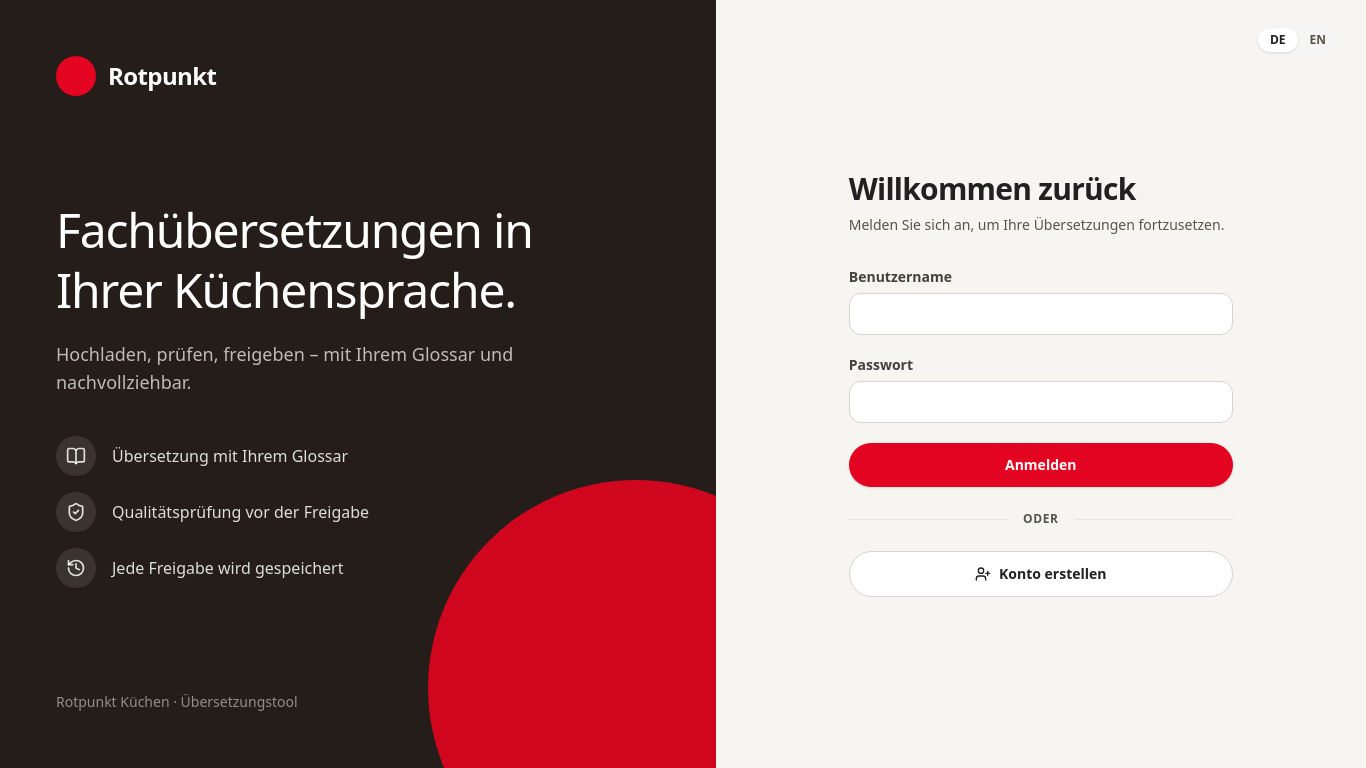
it: Login › shows the server message for wrong credentials and stores nothing
The width and height of the screenshot is (1366, 768).
In the field labelled "Benutzername": (1041,314) [849,293,1233,335], type "translator"
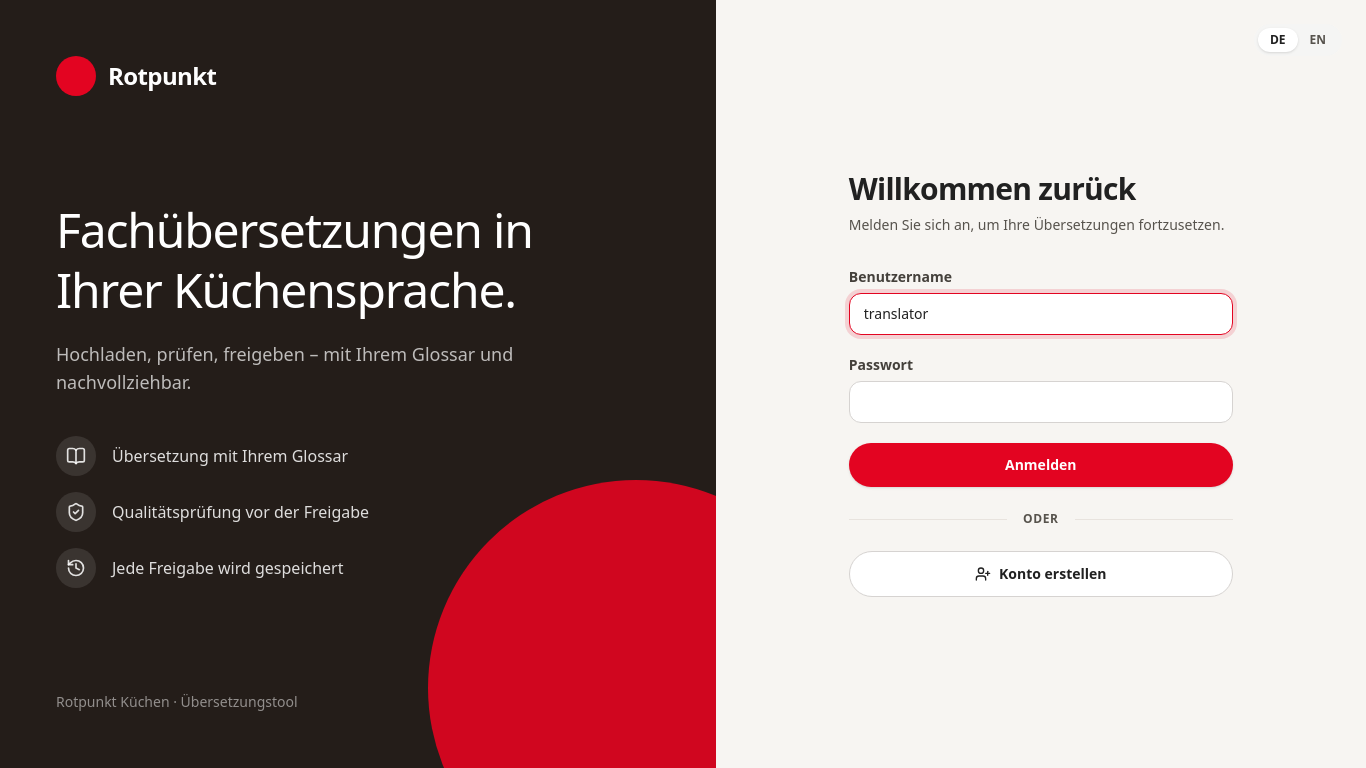
In the password field labelled "Passwort": (1041,402) [849,381,1233,423], type "wrong"
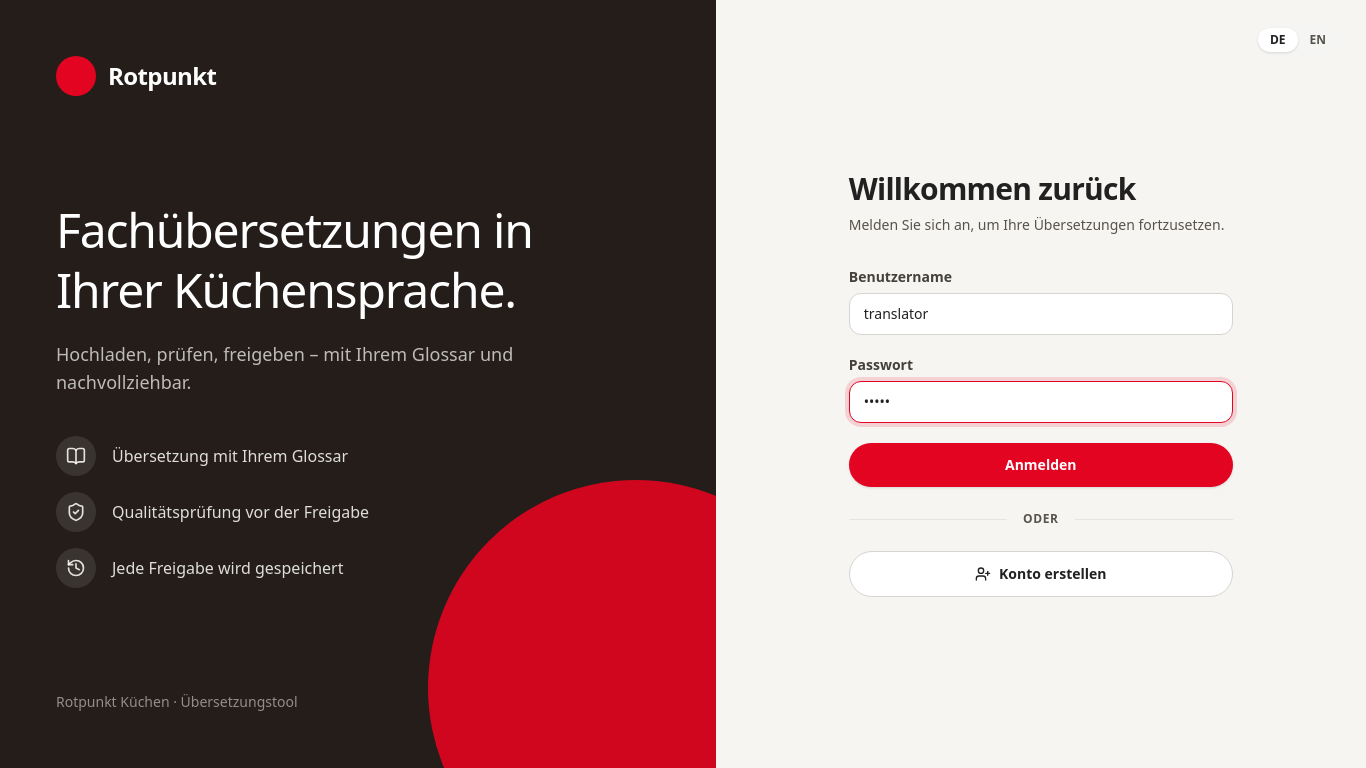
Click the button "Anmelden": (1041,465) [849,443,1233,487]
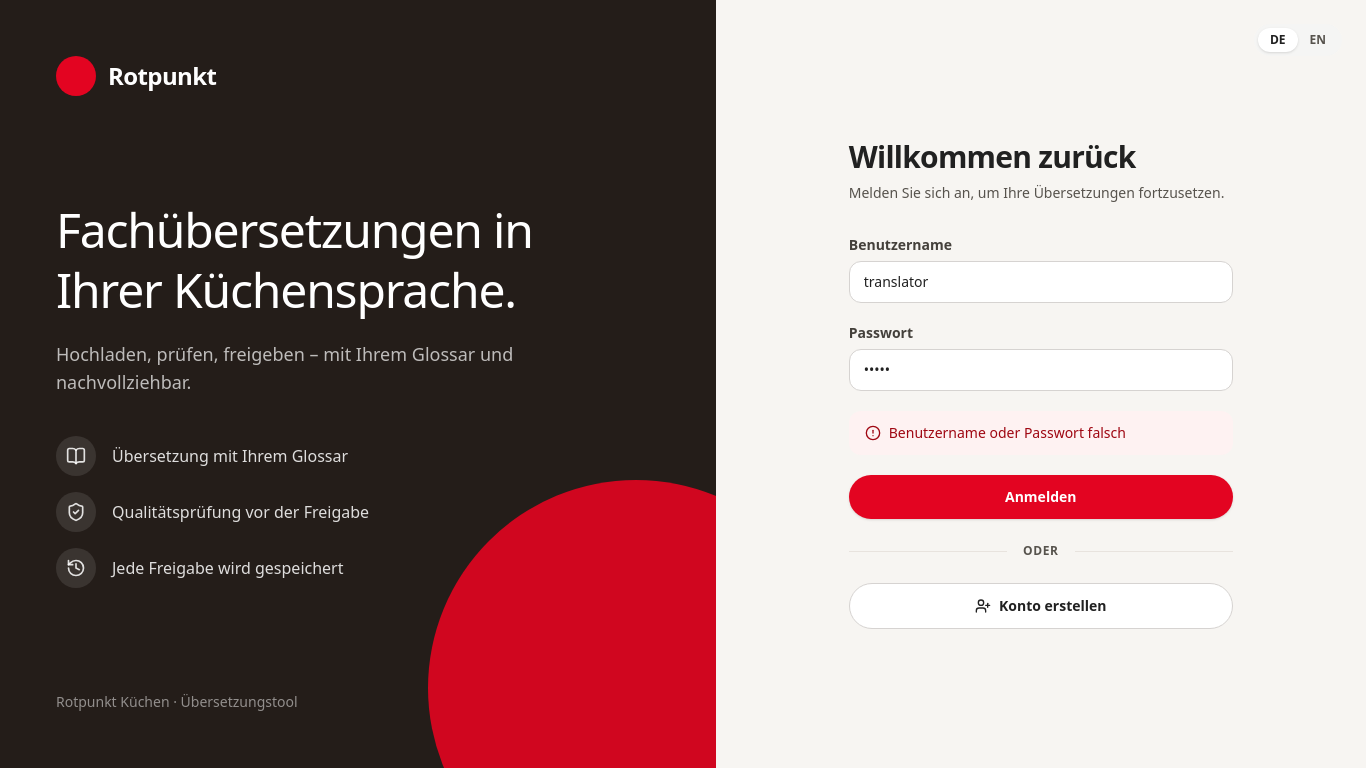
Check: the text "Benutzername oder Passwort falsch" is shown, box [849,411,1233,455]
